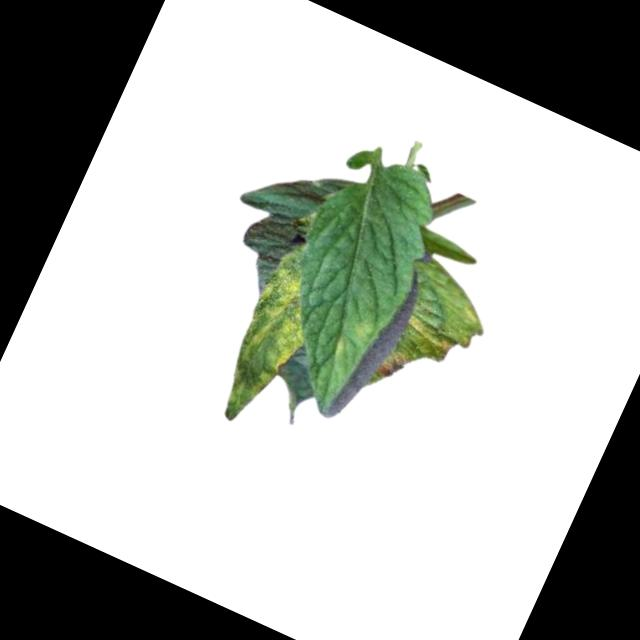Leaf_Mold: (215, 247, 336, 416), (375, 279, 495, 407), (325, 306, 382, 374)
